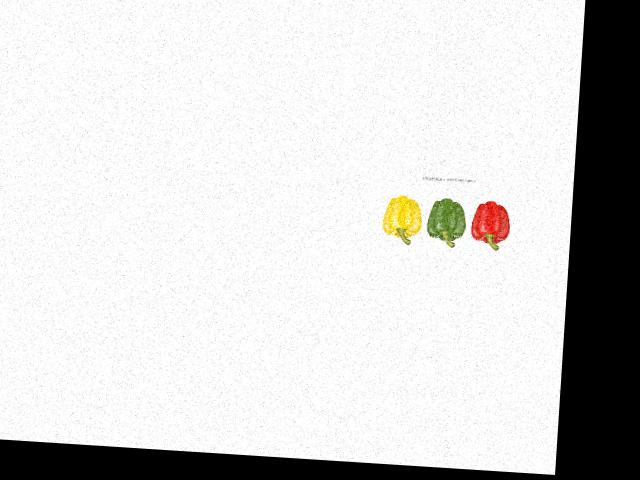bell_pepper: (379, 190, 426, 244)
